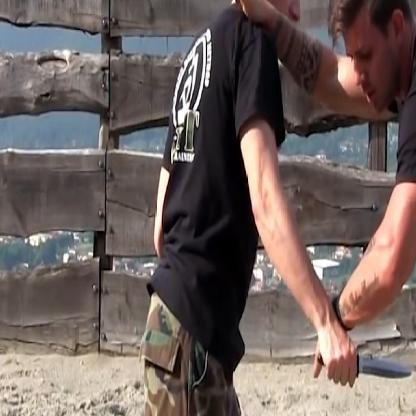knife: (307, 334, 415, 387)
